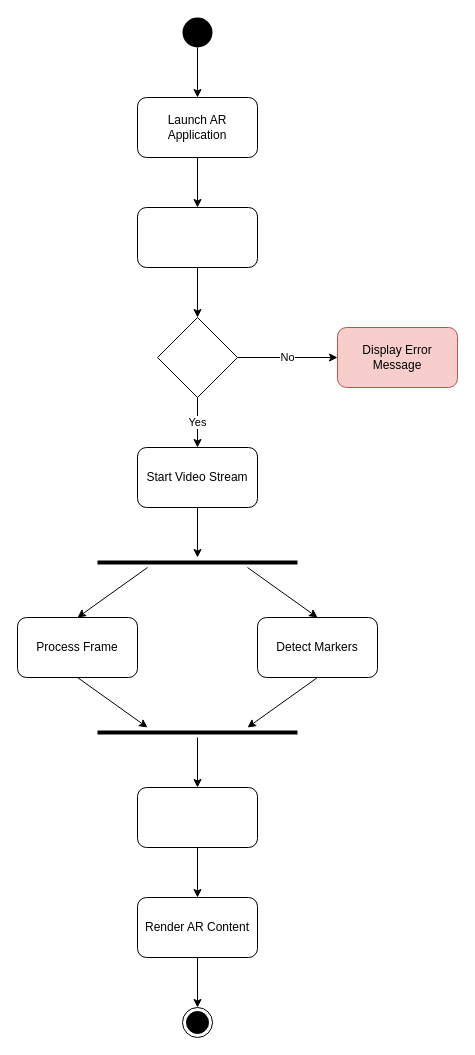
The diagram is 475 pixels wide and 1055 high, and some of its shapes have lost their labels. Here are the shapes that lost their labels. From the top down, the centre of each, then its label:
At pixel 197 237: "Initialize Camera".
At pixel 197 357: "Camera Available?".
At pixel 197 817: "Update Scene".
